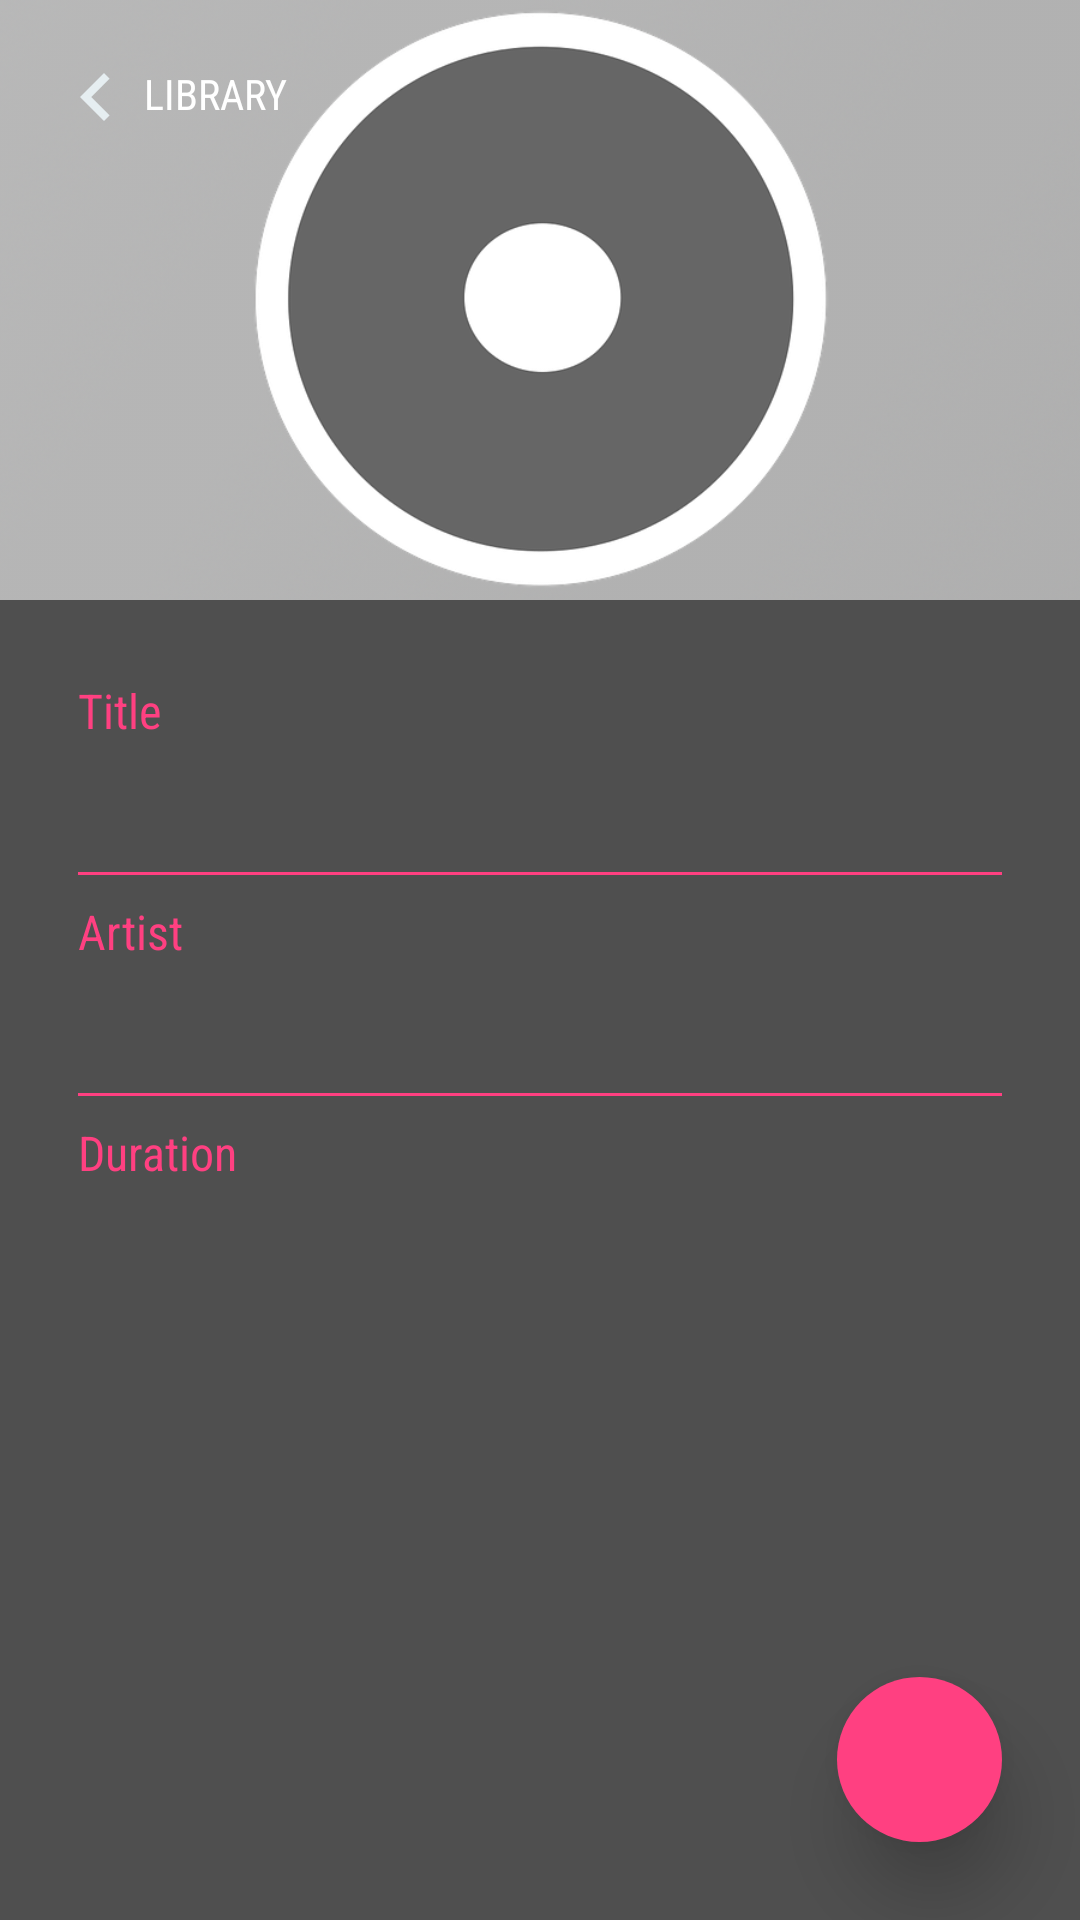

Icons on this 1080×1920 Android screen, each with its box as (x1, y1, x2, y2):
back: (80, 73, 109, 121)
